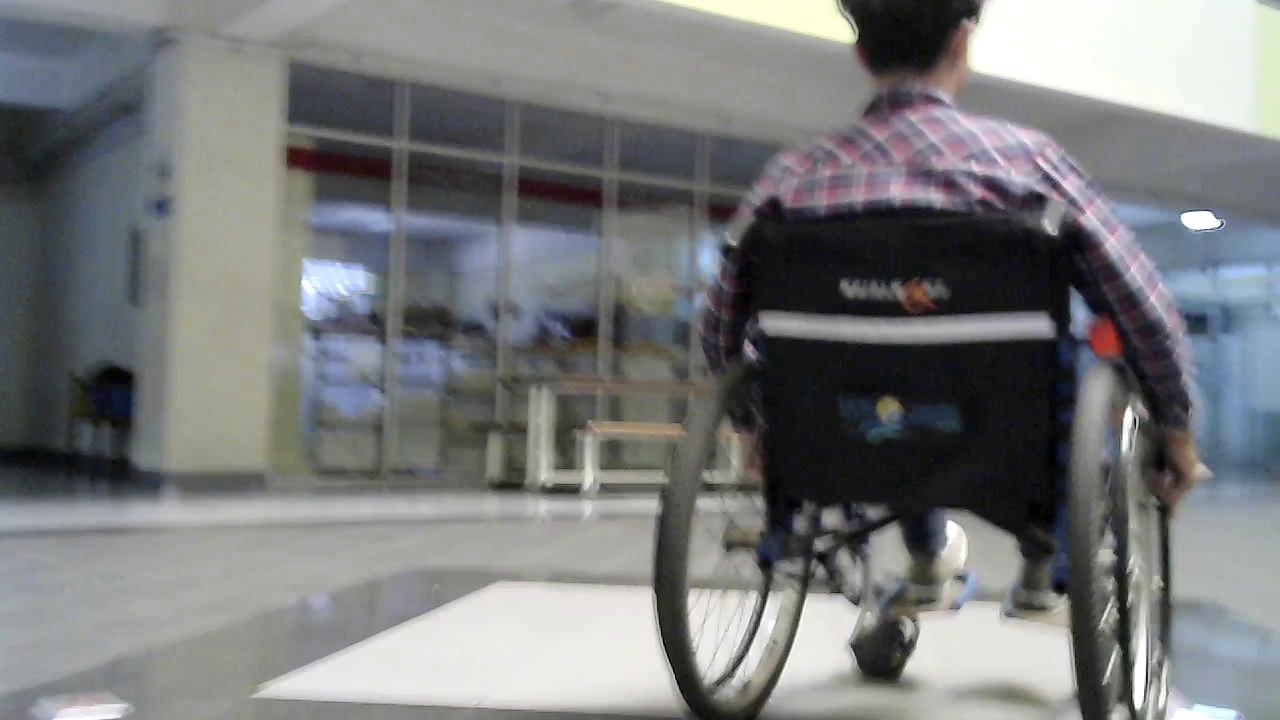person: (693, 2, 1214, 666)
wheelchair: (639, 184, 1196, 720)
